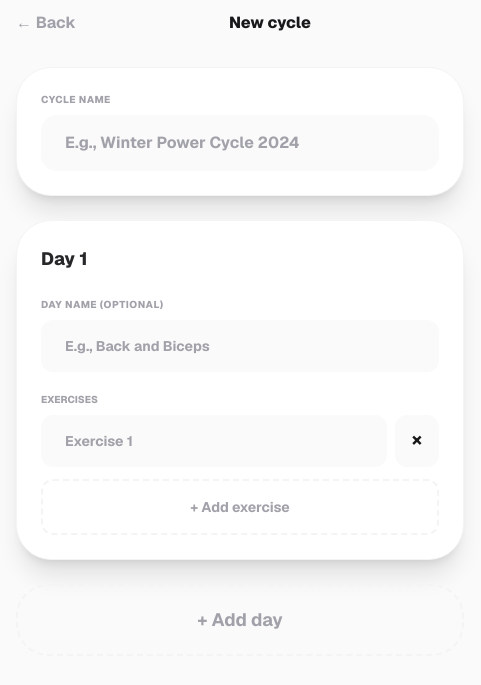
CycleFormView › adds a new day when "+ Add day" is clicked
Expected: the text "Day 2" is not shown
Click the button "+ Add day" at (240,620), box top-left (16, 584), bottom-right (464, 656)
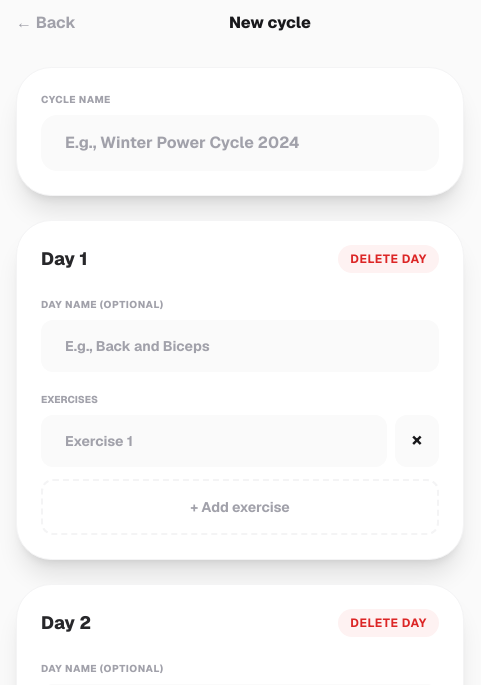
Expected: the heading "Day 2" is shown, top-left (41, 609), bottom-right (91, 637)
